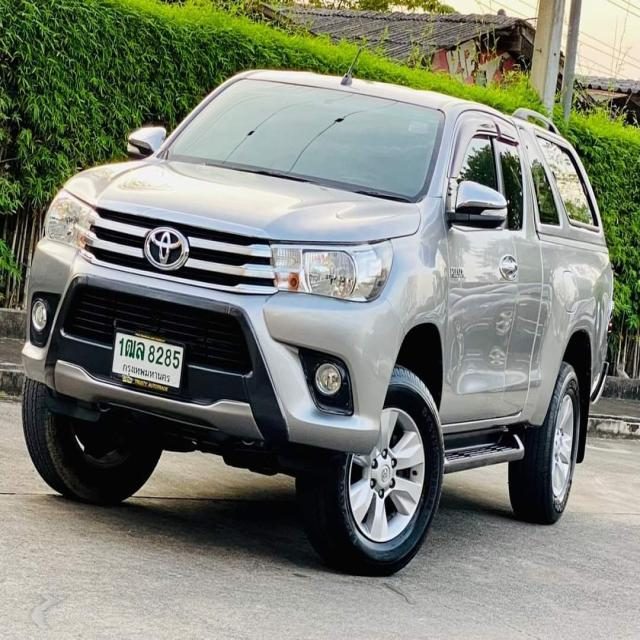license_plate: (109, 323, 191, 394)
